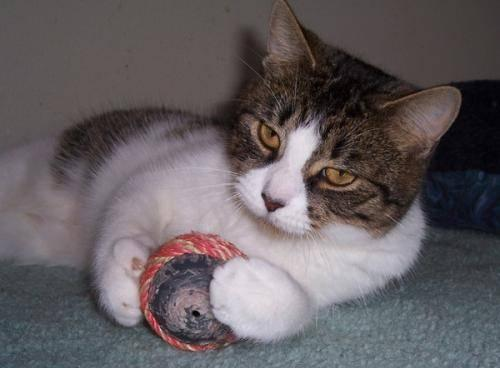cat: (0, 0, 460, 348)
